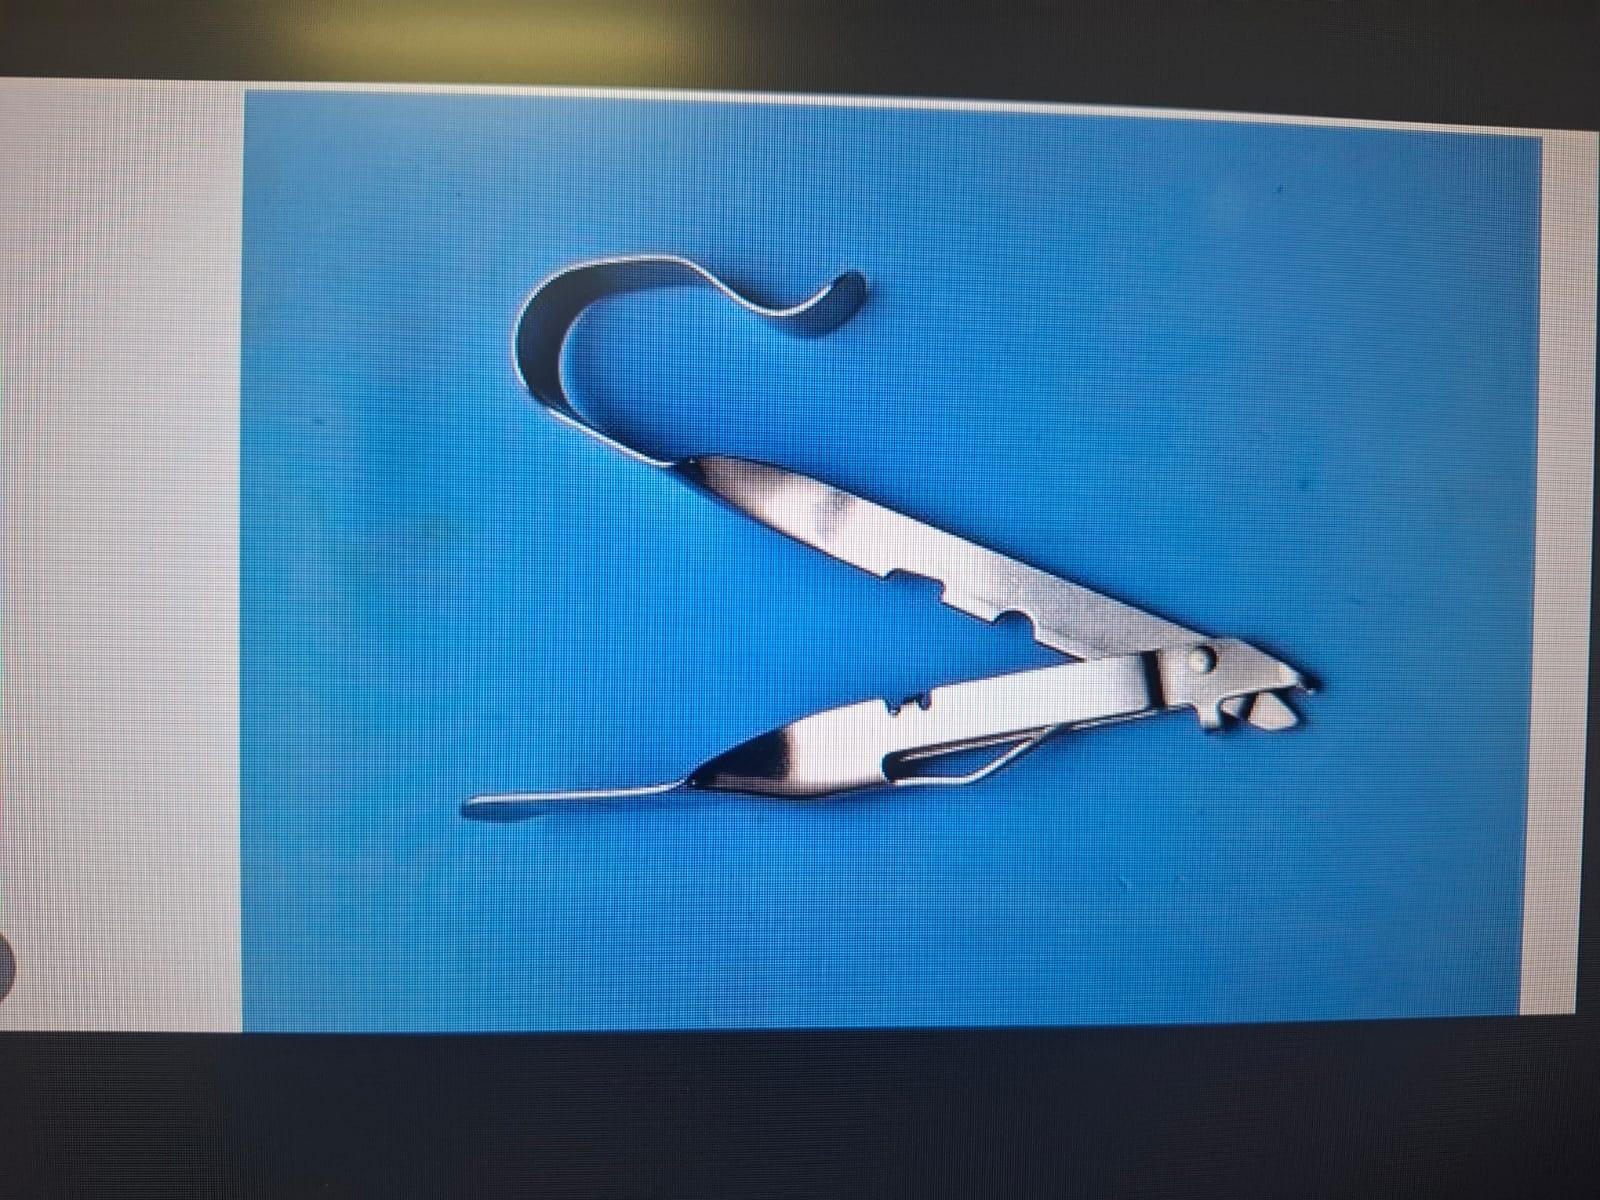Stapler Remover: (443, 239, 1334, 829)
